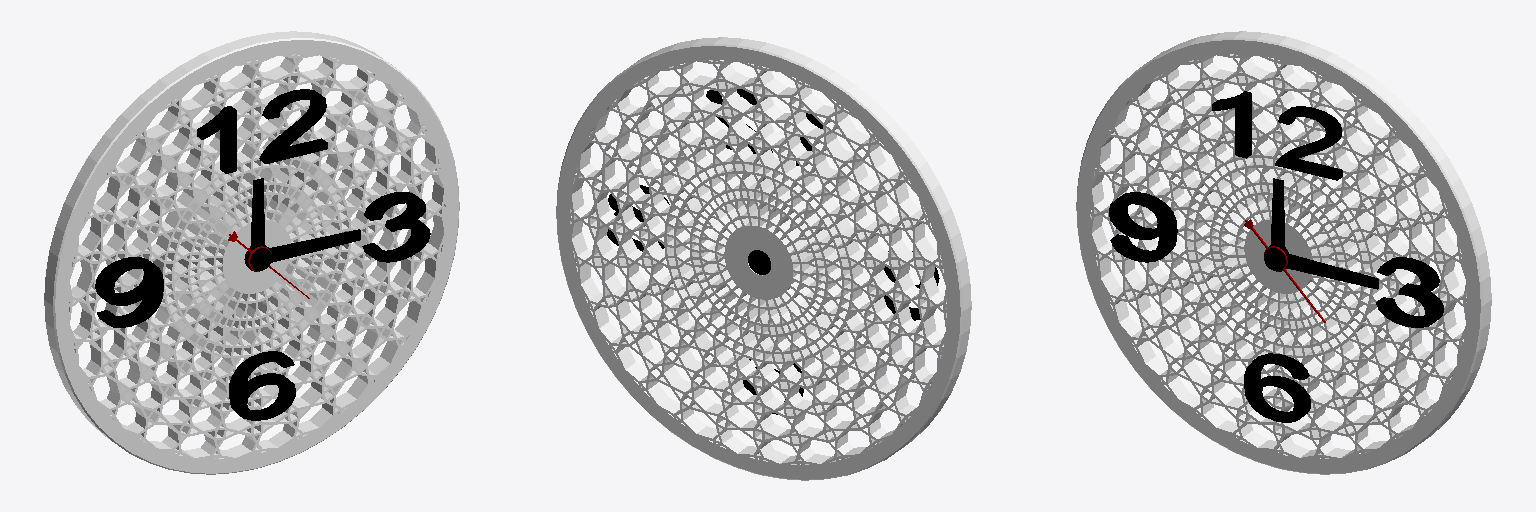
File: clock03_BLENDER.obj
3 renders of one model, left to right at view 1: azimuth 30°, elevation 25°; view 2: azimuth 150°, elevation 25°; view 3: azimuth 330°, elevation 25°, orthographic.
Parts seen in each view (by area): view 1: clock03, clock03_digits, clock03_bighand, clock03_littlehand; view 2: clock03, clock03_digits; view 3: clock03, clock03_digits, clock03_bighand, clock03_littlehand.
Part boxes in pixels (bbox=[...]): clock03: bbox=[44, 31, 459, 474]; clock03_digits: bbox=[95, 89, 430, 420]; clock03_bighand: bbox=[246, 229, 360, 271]; clock03_littlehand: bbox=[245, 178, 264, 266]; clock03: bbox=[556, 37, 971, 480]; clock03_digits: bbox=[607, 89, 939, 414]; clock03: bbox=[1076, 31, 1491, 474]; clock03_digits: bbox=[1109, 91, 1443, 422]; clock03_bighand: bbox=[1269, 244, 1378, 289]; clock03_littlehand: bbox=[1271, 178, 1288, 252].
Bounding box in the file's own units: 1.76 × 1.76 × 0.1386.